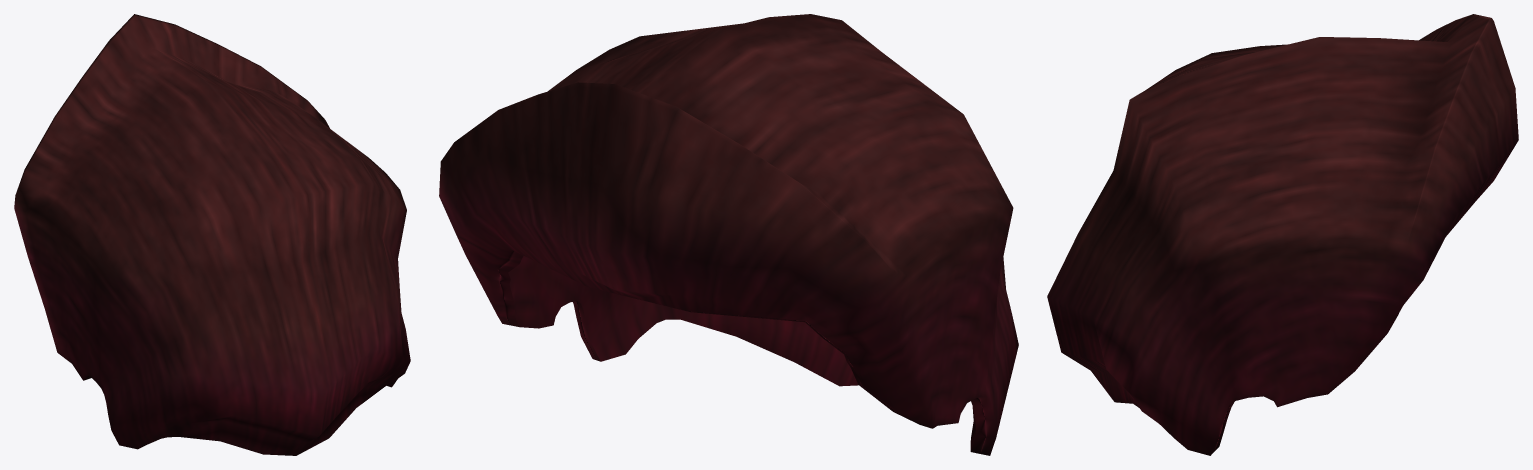
3 views of the same model, side by side, from view 1: azimuth 30°, elevation 25°; view 2: azimuth 150°, elevation 25°; view 3: azimuth 270°, elevation 25° (orthographic). The views are drawn at different scales.
Visible parts, largest first — view 1: geometry_0; view 2: geometry_0; view 3: geometry_0.
Part boxes in pixels (<box>): geometry_0: <box>14,14,410,455</box>; geometry_0: <box>439,14,1018,455</box>; geometry_0: <box>1047,14,1518,455</box>.
Bounding box in the file's own units: 1.35 × 1.33 × 1.51.
Materials: 1 (1 with a texture image).
